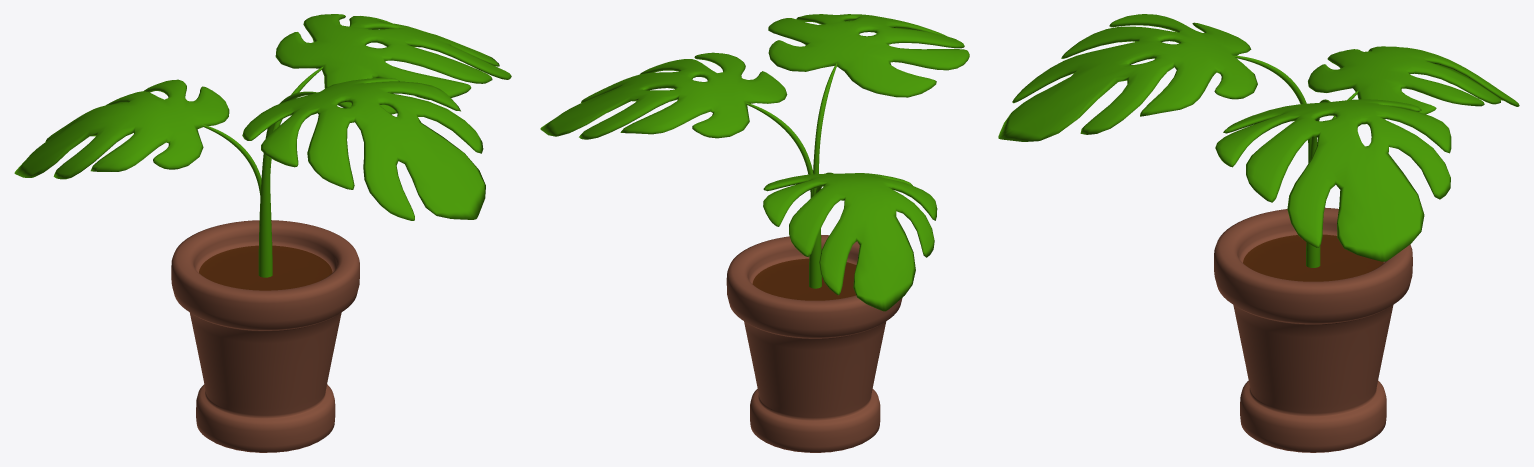
File: MonsteraPlant.fbx
3 views of the same model, side by side, from view 1: azimuth 30°, elevation 25°; view 2: azimuth 150°, elevation 25°; view 3: azimuth 270°, elevation 25° (orthographic). The views are drawn at different scales.
Visible parts, largest first — view 1: Circle.001, Leaf.003, Leaf.004, Leaf.005, Stem.003; view 2: Circle.001, Leaf.004, Leaf.005, Leaf.003, Stem.003, Stem.005; view 3: Circle.001, Leaf.005, Leaf.003, Leaf.004, Stem.003.
Part boxes in pixels (x1,y1,x2,y2): Circle.001: (171,220,359,452); Leaf.003: (242,78,485,220); Leaf.004: (14,79,229,179); Leaf.005: (275,14,511,114); Stem.003: (258,91,317,277); Circle.001: (726,235,902,452); Leaf.004: (763,173,937,311); Leaf.005: (540,52,787,139); Leaf.003: (768,14,969,97); Stem.003: (809,63,837,288); Stem.005: (745,102,813,287); Circle.001: (1214,207,1412,452); Leaf.005: (1215,99,1451,261); Leaf.003: (998,14,1257,141); Leaf.004: (1308,46,1519,114); Stem.003: (1233,55,1320,253).
Size of the model in its own units: 706 by 584 by 706.
